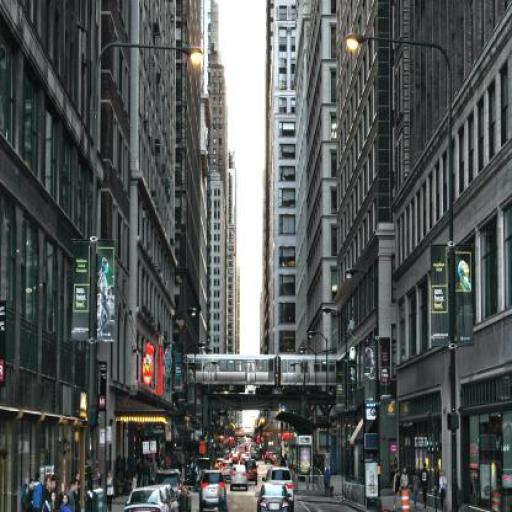street light: (86, 42, 203, 511), (346, 34, 457, 512), (345, 268, 382, 512), (322, 306, 352, 482), (172, 309, 197, 473), (308, 331, 329, 479), (300, 348, 318, 470), (202, 361, 218, 456), (193, 343, 206, 459), (290, 363, 306, 455)
